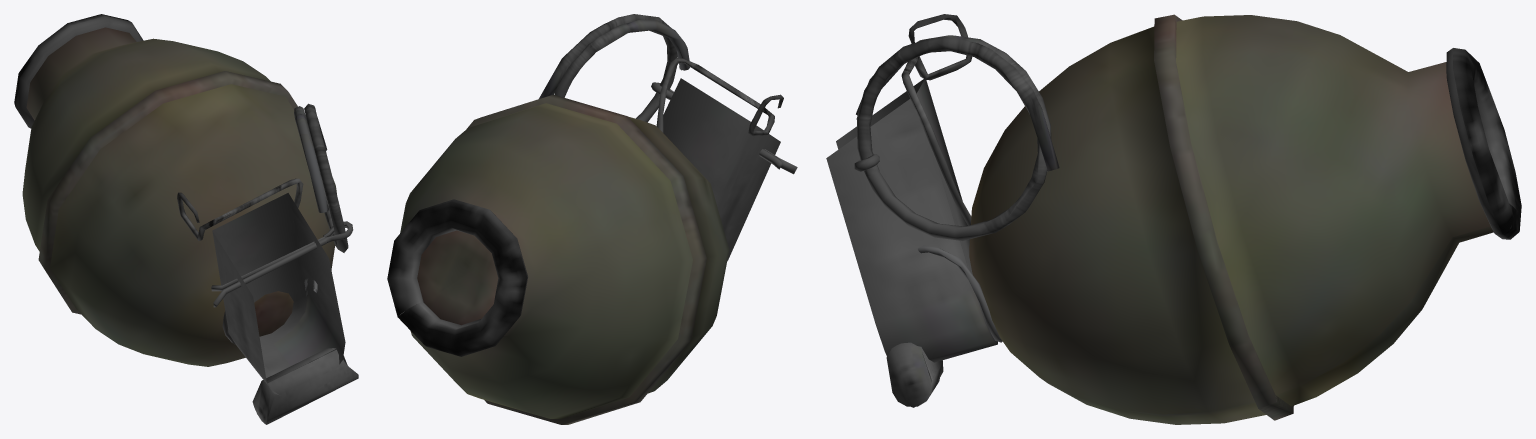
File: nade_lod.glb
3 renders of one model, left to right at view 1: azimuth 30°, elevation 25°; view 2: azimuth 150°, elevation 25°; view 3: azimuth 270°, elevation 25°, orthographic. The views are drawn at different scales.
Parts seen in each view (by area): view 1: Cylinder.002_Material_0; view 2: Cylinder.002_Material_0; view 3: Cylinder.002_Material_0.
Boxes of the visible parts, box(x1,y1,x2,y2) form: Cylinder.002_Material_0: box(14, 14, 358, 424); Cylinder.002_Material_0: box(387, 14, 797, 424); Cylinder.002_Material_0: box(826, 14, 1521, 424).
Size of the model in its own units: 0.593 by 0.6182 by 1.
Materials: 1 (1 with a texture image).
